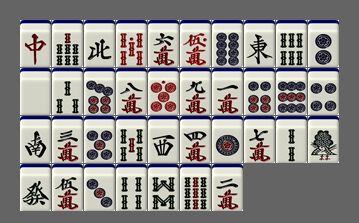0m: (180, 20, 211, 67)
0p: (148, 68, 179, 115)
0s: (116, 20, 147, 67)
1m: (212, 68, 243, 115)
1p: (212, 116, 243, 163)
1s: (308, 116, 339, 163)
1z: (244, 20, 275, 67)
2m: (212, 164, 243, 211)
2p: (308, 20, 339, 67)
2s: (276, 116, 307, 163)
2z: (20, 116, 51, 163)
3m: (52, 116, 83, 163)
3p: (84, 164, 115, 211)
3s: (52, 68, 83, 115)
3z: (148, 116, 179, 163)
4m: (180, 116, 211, 163)
4p: (308, 68, 339, 115)
4s: (116, 164, 147, 211)
4z: (84, 20, 115, 67)
5m: (52, 164, 83, 211)
5p: (84, 116, 115, 163)
5s: (116, 116, 147, 163)
5z: (20, 68, 51, 115)
6m: (148, 20, 179, 67)
6p: (244, 68, 275, 115)
6s: (276, 20, 307, 67)
6z: (20, 164, 51, 211)
7m: (244, 116, 275, 163)
7p: (84, 68, 115, 115)
7s: (52, 20, 83, 67)
7z: (20, 20, 51, 67)
8m: (116, 68, 147, 115)
8p: (212, 20, 243, 67)
8s: (148, 164, 179, 211)
9m: (180, 68, 211, 115)
9p: (276, 68, 307, 115)
9s: (180, 164, 211, 211)
